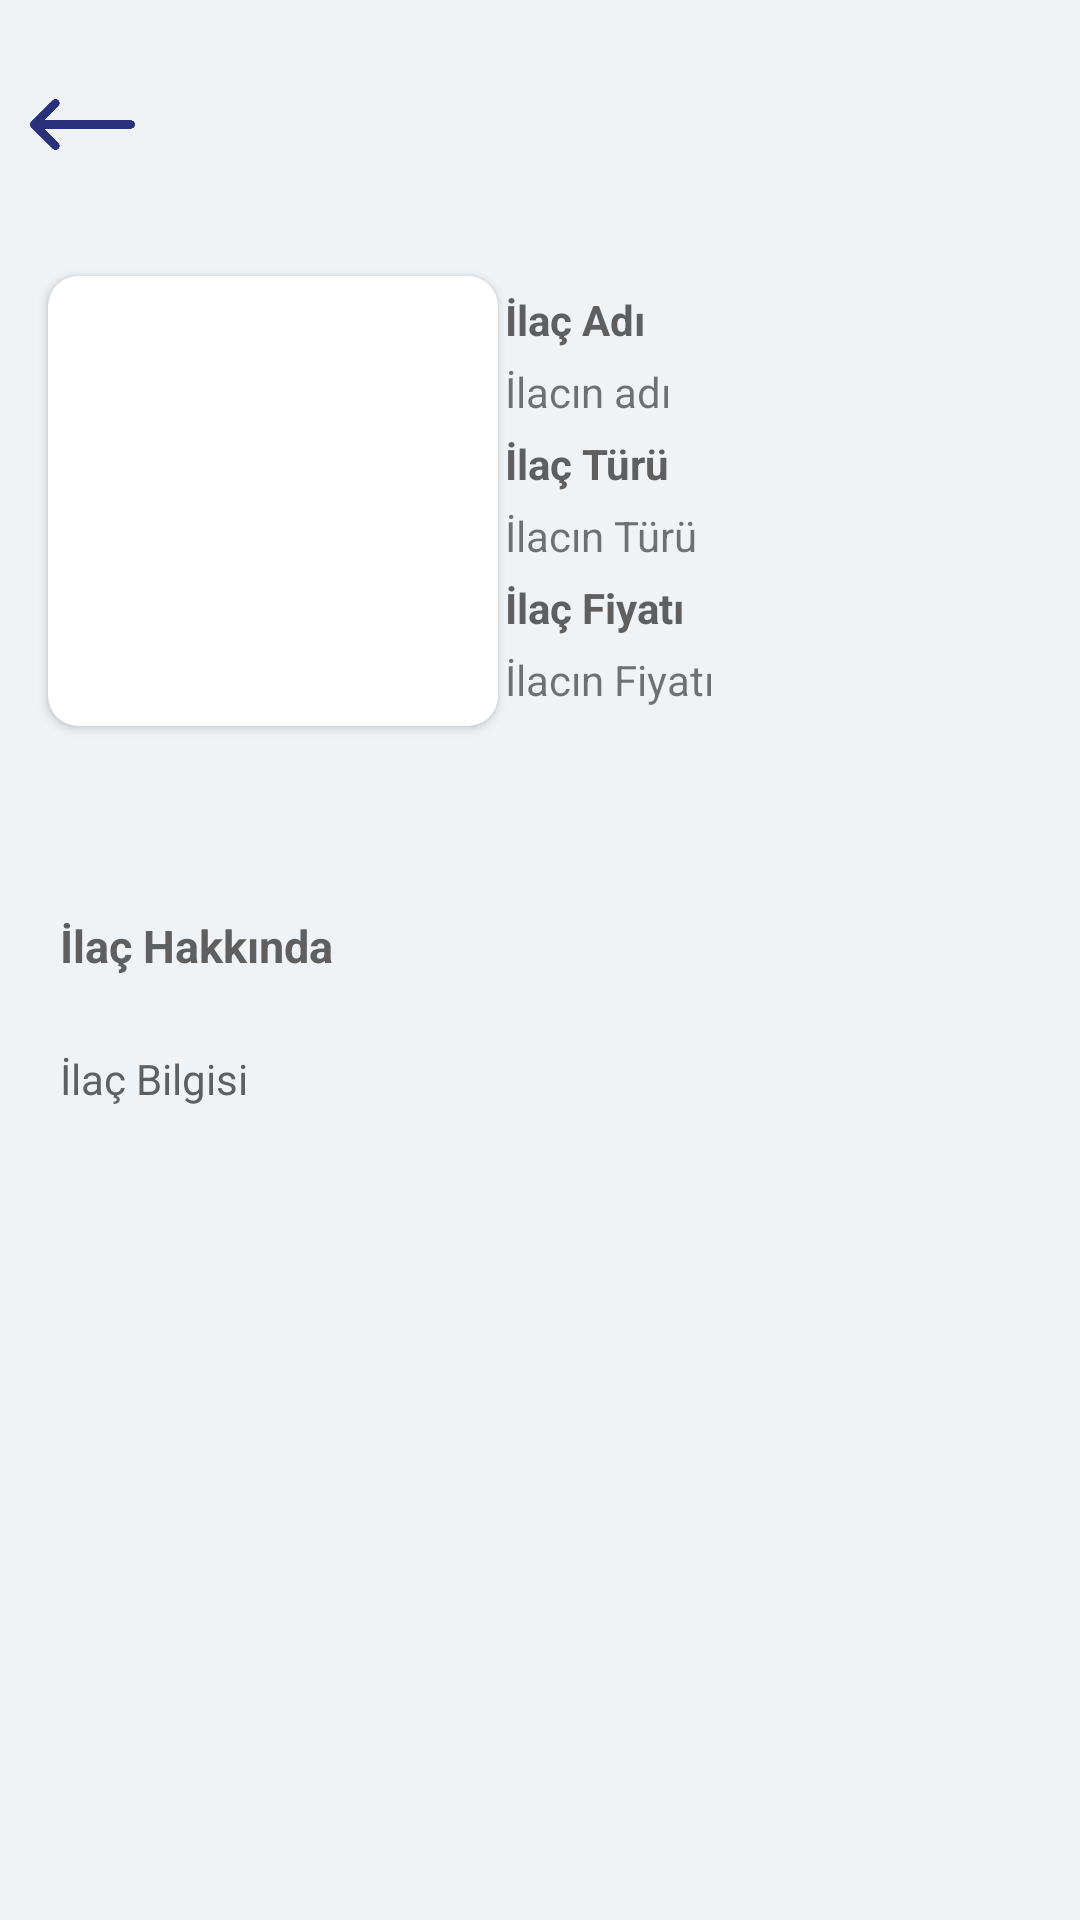

Where to tap for icons on this 1080w x 1920h app screen, as (x,y):
iconback: (82,124)
